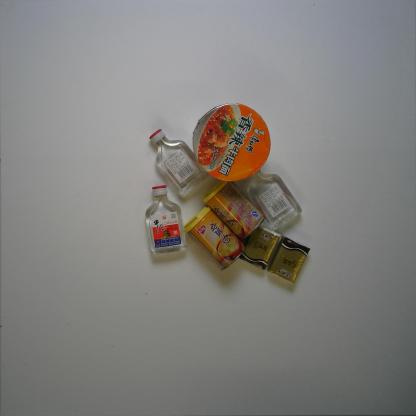Alcohol: (148, 128, 209, 199), (246, 169, 303, 232), (145, 184, 188, 256)
Canned Food: (183, 205, 246, 271), (203, 179, 266, 240)
Instant Noodles: (192, 102, 271, 182)
Tissue: (267, 234, 311, 284), (238, 224, 282, 271)
